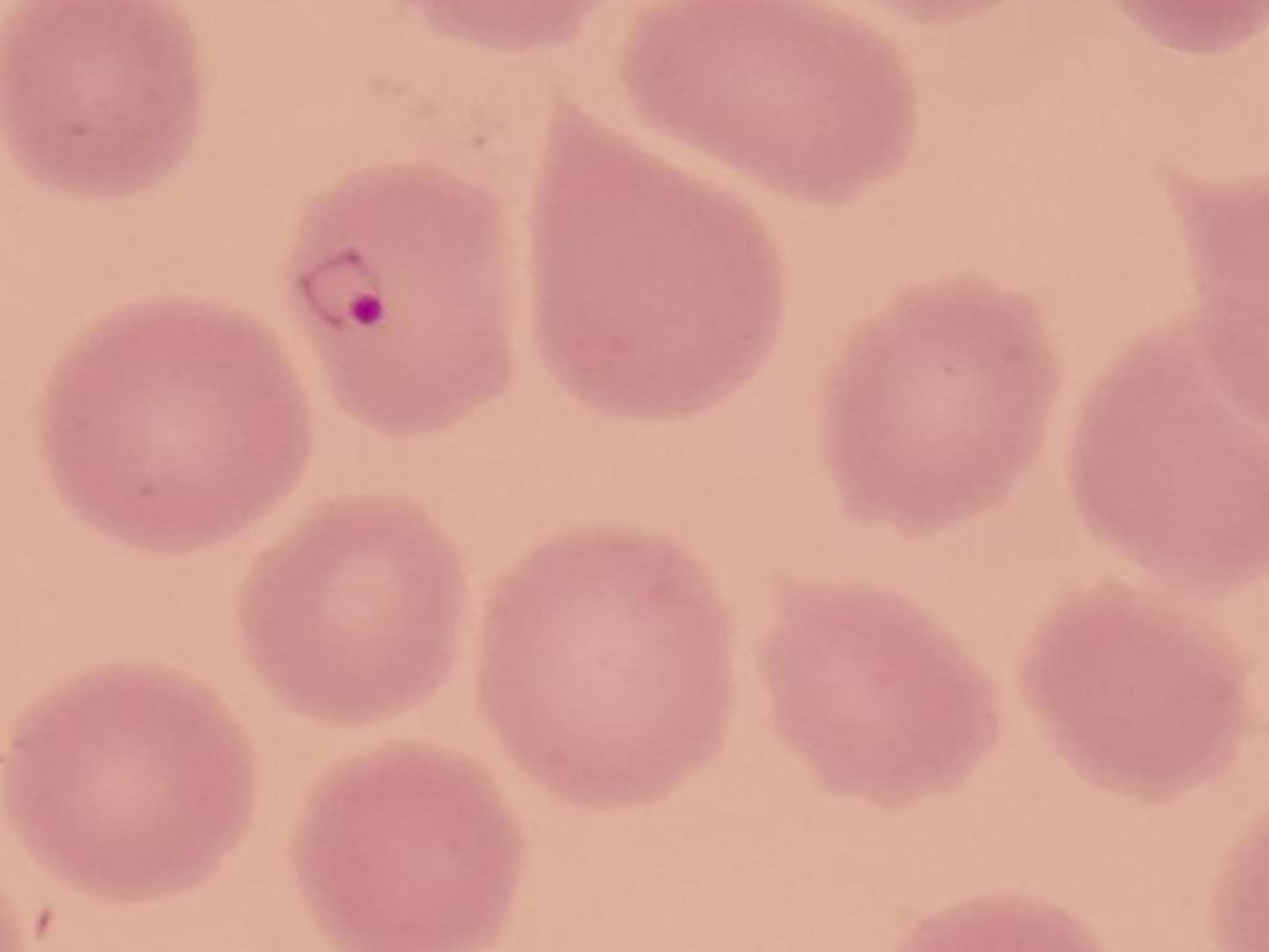Infected: (288, 162, 519, 434)
Uninfected: (525, 88, 788, 422), (469, 524, 736, 806), (41, 299, 312, 558), (0, 663, 258, 899), (616, 0, 916, 197), (826, 276, 1056, 530), (1064, 319, 1264, 600), (758, 577, 998, 806), (240, 501, 465, 724), (1021, 595, 1249, 796), (304, 750, 518, 952), (0, 0, 200, 197)
